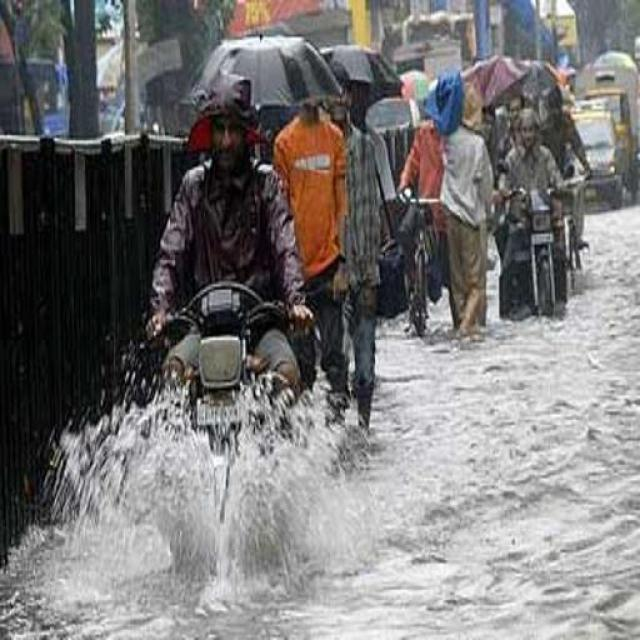puddle: (66, 459, 640, 640), (391, 334, 640, 509)
